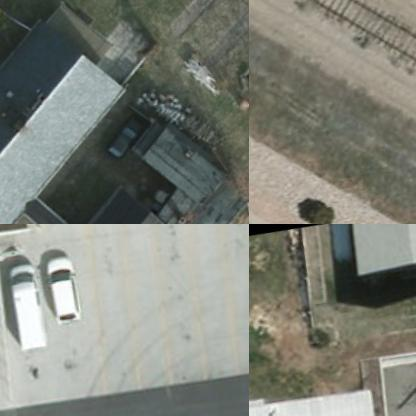car: (42, 250, 84, 326), (102, 112, 152, 162)
van: (3, 260, 53, 353)
